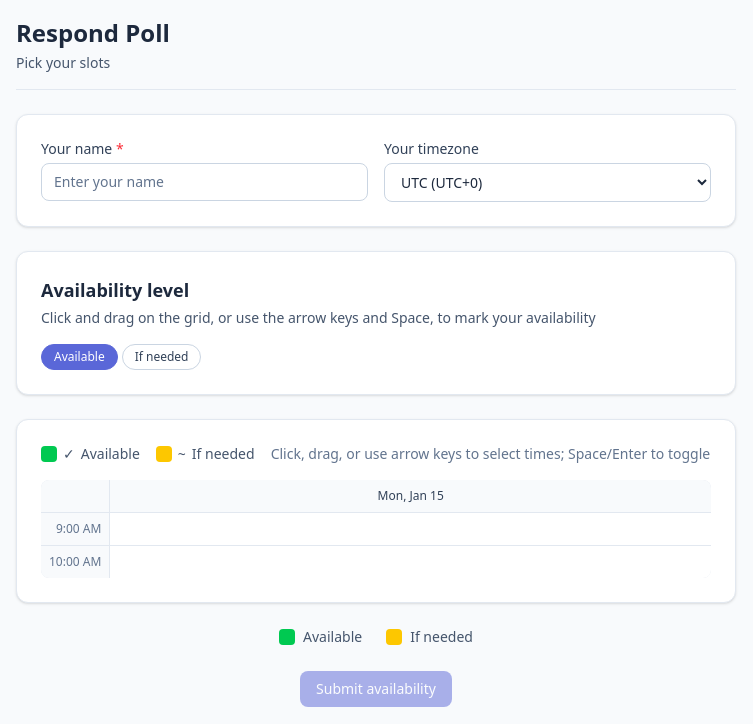
Test case: PollRespond - open poll form › toggles the availability level buttons between available and if-needed
The image size is (753, 724).
expect the heading "Respond Poll" is shown: met, box left=16, top=16, right=170, bottom=49
Click the button "If needed" at point(162, 357), box left=122, top=344, right=202, bottom=370
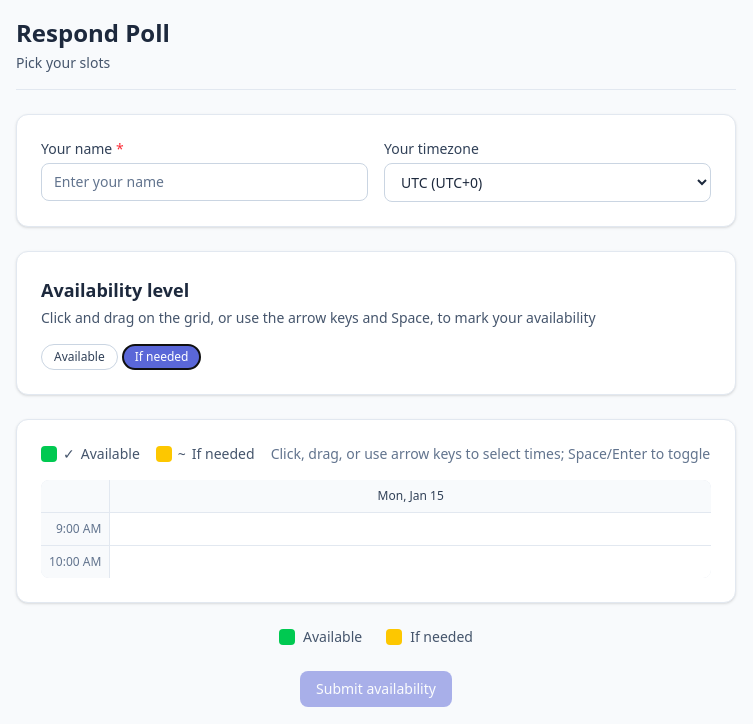
// After selecting "If needed", painting a slot marks it at level 2.
Press the mouse on the button named "9:00 AM on Mon, Jan 15: not selected" at point(411, 529), box left=110, top=513, right=711, bottom=545
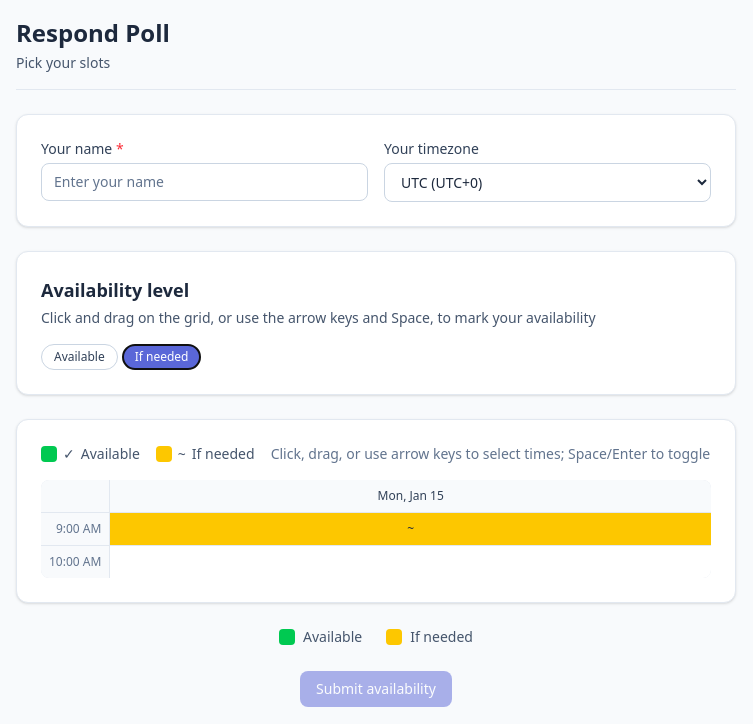
expect the button labelled "~" is shown: met, box left=110, top=513, right=711, bottom=545
